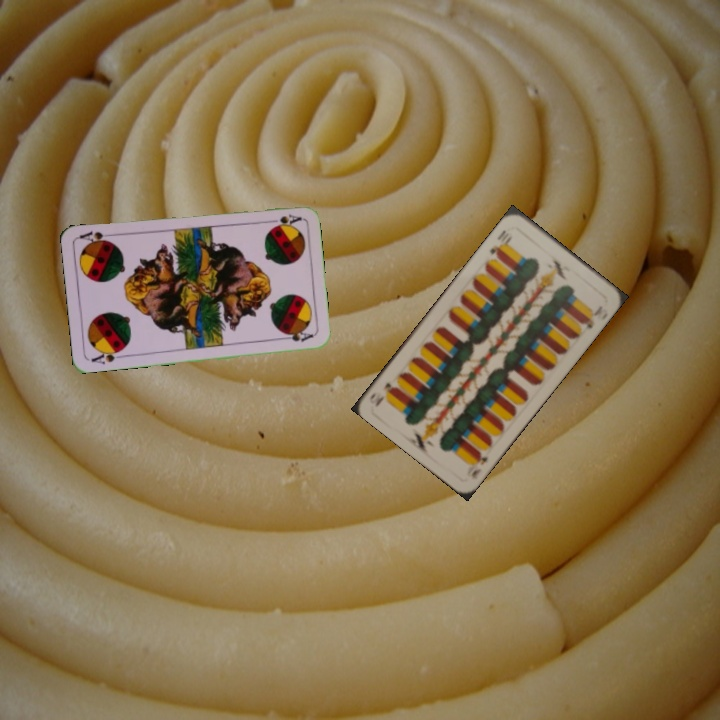E10: (486, 226, 515, 260), (462, 448, 491, 482)
SA: (87, 345, 127, 367), (263, 210, 303, 229)
